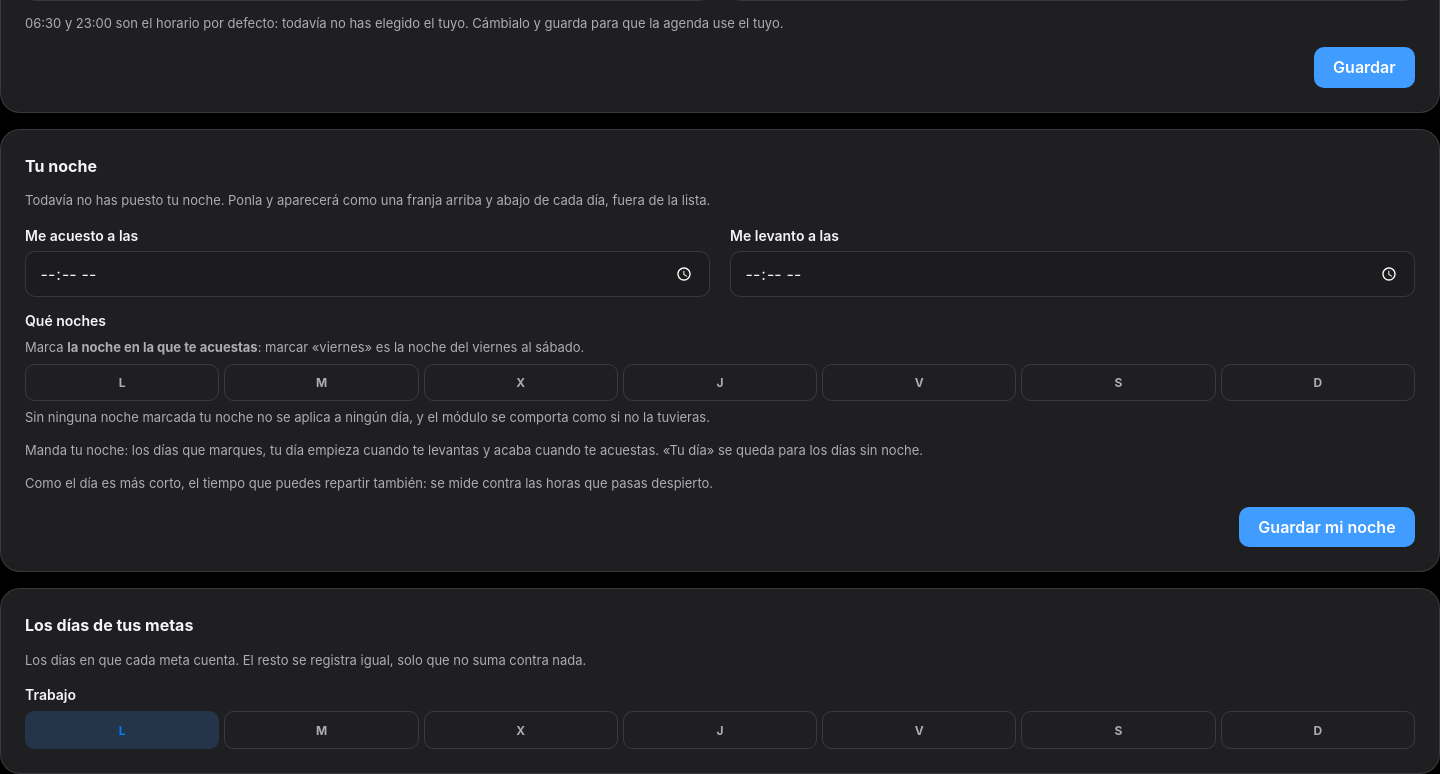
Test: VidaAjustesPage › los días de cada meta › quitar el último día no sale hacia el API: se dice aquí
(page scrolled)
Click the button named "lunes" at [122, 730], box [25,712,220,749]
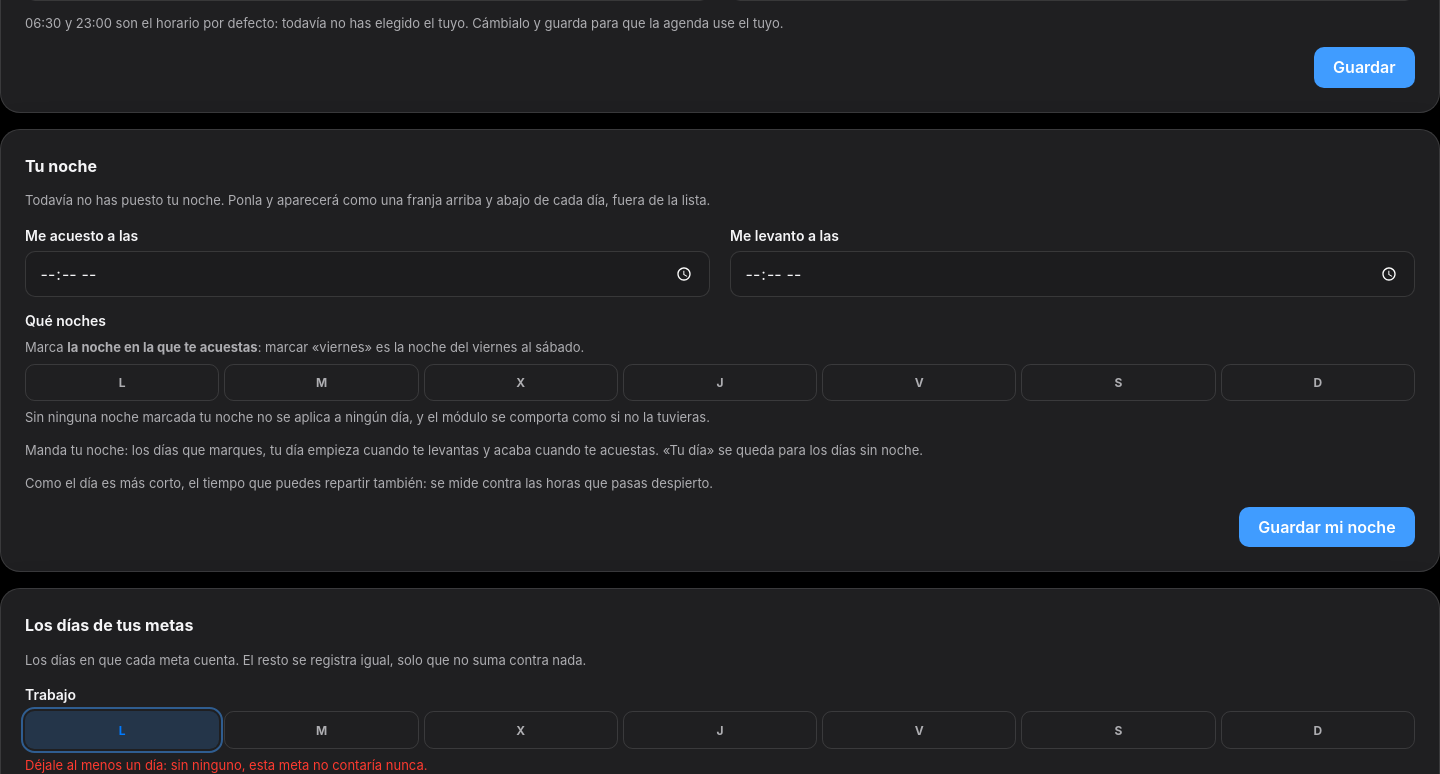
Check: the message reads "Déjale al menos un día: sin ninguno, esta meta no contaría nunca.", box [25,757,428,773]
